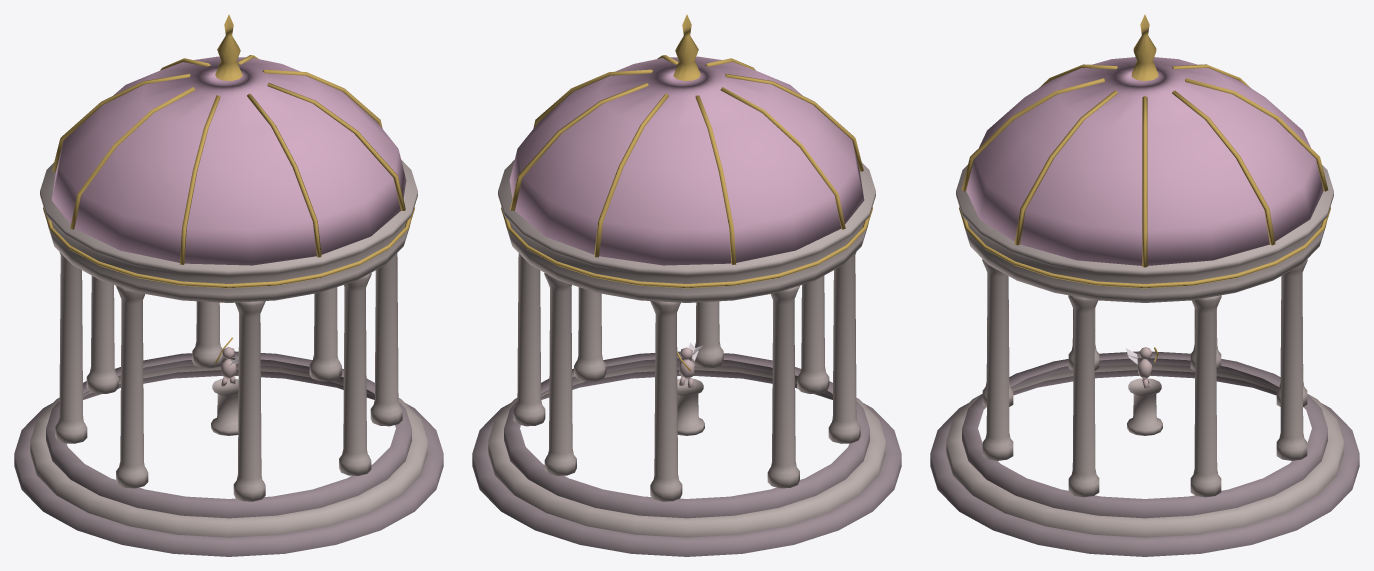
Rendered from temple_of_love.glb.
3 views of the same model, side by side, from view 1: azimuth 30°, elevation 25°; view 2: azimuth 150°, elevation 25°; view 3: azimuth 270°, elevation 25° (orthographic).
Parts seen in each view (by area): view 1: temple_of_love; view 2: temple_of_love; view 3: temple_of_love.
Boxes of the visible parts, <box> form: temple_of_love: <box>14,14,443,556</box>; temple_of_love: <box>472,14,901,556</box>; temple_of_love: <box>930,14,1359,556</box>.
Size of what is drawn, in the model's own units: 10.8 by 12.55 by 10.8.
